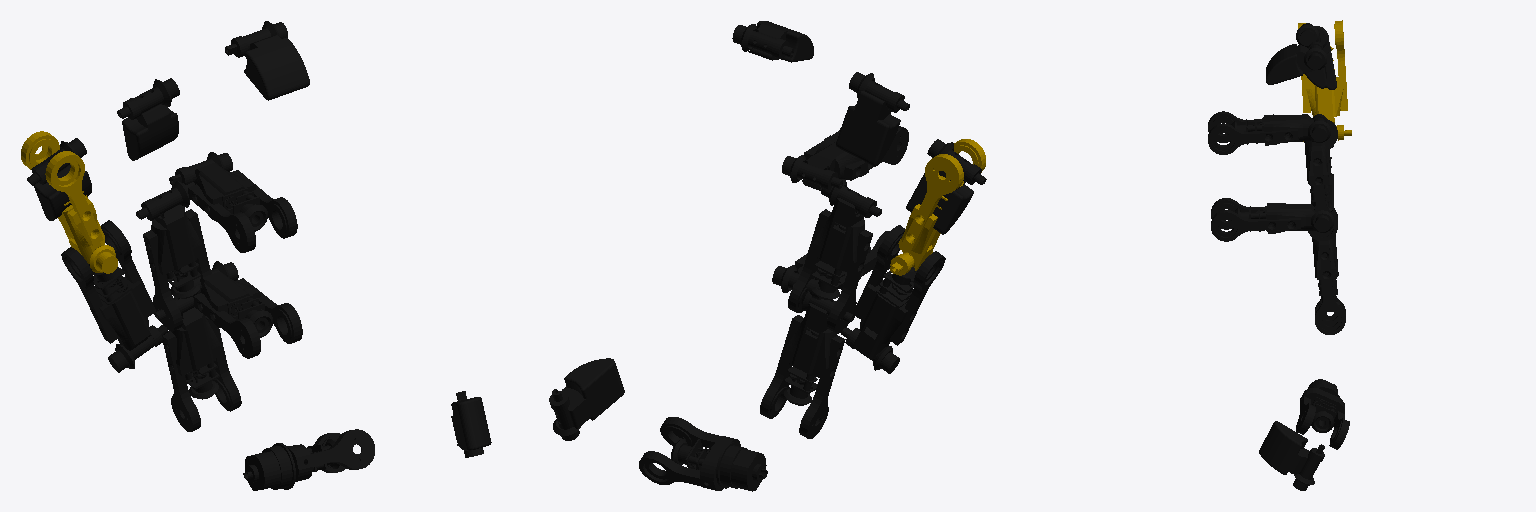
The robot description file, URDF, robot "hand_remake_renders":
<robot
  name="hand_remake_renders">
  <link
    name="base_link">
    <inertial>
      <origin
        xyz="0.0161938320188902 -0.0675517946069913 0.0566942623017759"
        rpy="0 0 0" />
      <mass
        value="0.145742252598535" />
      <inertia
        ixx="0.000108337180804247"
        ixy="-4.42503626036578E-09"
        ixz="-7.699092591204E-06"
        iyy="0.000124743842930029"
        iyz="-7.34642773832096E-08"
        izz="4.87149243546208E-05" />
    </inertial>
    <visual>
      <origin
        xyz="0 0 0"
        rpy="0 0 0" />
      <geometry>
        <mesh
          filename="package://robot_hand/meshes/base_link.STL" />
      </geometry>
      <material
        name="">
        <color
          rgba="0.792156862745098 0.819607843137255 0.933333333333333 1" />
      </material>
    </visual>
    <collision>
      <origin
        xyz="0 0 0"
        rpy="0 0 0" />
      <geometry>
        <mesh
          filename="package://robot_hand/meshes/base_link.STL" />
      </geometry>
    </collision>
  </link>
  <link
    name="thumb_meta">
    <inertial>
      <origin
        xyz="3.54579893944718E-05 0.0296060889397809 0.00118047417000397"
        rpy="0 0 0" />
      <mass
        value="0.0105969873086149" />
      <inertia
        ixx="1.71469578578689E-06"
        ixy="6.63854404146747E-09"
        ixz="-1.29745418023376E-10"
        iyy="2.75598636814296E-07"
        iyz="-1.89792482555603E-07"
        izz="1.44108511822397E-06" />
    </inertial>
    <visual>
      <origin
        xyz="0 0 0"
        rpy="0 0 0" />
      <geometry>
        <mesh
          filename="package://robot_hand/meshes/thumb_meta.STL" />
      </geometry>
      <material
        name="">
        <color
          rgba="0.109803921568627 0.109803921568627 0.109803921568627 1" />
      </material>
    </visual>
    <collision>
      <origin
        xyz="0 0 0"
        rpy="0 0 0" />
      <geometry>
        <mesh
          filename="package://robot_hand/meshes/thumb_meta.STL" />
      </geometry>
    </collision>
  </link>
  <joint
    name="thumb_meta_to_base"
    type="continuous">
    <origin
      xyz="0.019209760005139 -0.0675469356726254 0.0198747840085588"
      rpy="7.70816303271424E-16 -0.450566111790748 -1.5707963267949" />
    <parent
      link="base_link" />
    <child
      link="thumb_meta" />
    <axis
      xyz="0 1 0" />
  </joint>
  <link
    name="thumb_inter">
    <inertial>
      <origin
        xyz="0.000451398037093289 0.020613202244871 -9.10600556289498E-05"
        rpy="0 0 0" />
      <mass
        value="0.0203008345815764" />
      <inertia
        ixx="7.96942669235314E-06"
        ixy="-5.03458835216604E-07"
        ixz="2.79508174150751E-09"
        iyy="6.17359646262548E-07"
        iyz="2.42893830063001E-08"
        izz="8.58460841090492E-06" />
    </inertial>
    <visual>
      <origin
        xyz="0 0 0"
        rpy="0 0 0" />
      <geometry>
        <mesh
          filename="package://robot_hand/meshes/thumb_inter.STL" />
      </geometry>
      <material
        name="">
        <color
          rgba="0.109803921568627 0.109803921568627 0.109803921568627 1" />
      </material>
    </visual>
    <collision>
      <origin
        xyz="0 0 0"
        rpy="0 0 0" />
      <geometry>
        <mesh
          filename="package://robot_hand/meshes/thumb_inter.STL" />
      </geometry>
    </collision>
  </link>
  <joint
    name="thumb_inter_to_meta"
    type="continuous">
    <origin
      xyz="0 0.0450000000000087 0"
      rpy="0.135013093158482 1.5707963267949 0" />
    <parent
      link="thumb_meta" />
    <child
      link="thumb_inter" />
    <axis
      xyz="-1 0 0" />
  </joint>
  <link
    name="thumb_distal">
    <inertial>
      <origin
        xyz="-0.00121408448443803 0.00515112279717869 -0.000266659121916014"
        rpy="0 0 0" />
      <mass
        value="0.0127860282382531" />
      <inertia
        ixx="6.53141207380862E-07"
        ixy="-1.14653739086533E-07"
        ixz="5.94121376775632E-09"
        iyy="2.05657602789935E-07"
        iyz="3.36190737594443E-08"
        izz="8.55328642758697E-07" />
    </inertial>
    <visual>
      <origin
        xyz="0 0 0"
        rpy="0 0 0" />
      <geometry>
        <mesh
          filename="package://robot_hand/meshes/thumb_distal.STL" />
      </geometry>
      <material
        name="">
        <color
          rgba="0.109803921568627 0.109803921568627 0.109803921568627 1" />
      </material>
    </visual>
    <collision>
      <origin
        xyz="0 0 0"
        rpy="0 0 0" />
      <geometry>
        <mesh
          filename="package://robot_hand/meshes/thumb_distal.STL" />
      </geometry>
    </collision>
  </link>
  <joint
    name="thumb_distal_to_inter"
    type="continuous">
    <origin
      xyz="0.00279999999999976 0.0494997311142436 -0.000163155195877576"
      rpy="0.169380486675781 5.55111512312578E-17 5.82867087928207E-16" />
    <parent
      link="thumb_inter" />
    <child
      link="thumb_distal" />
    <axis
      xyz="-1 0 0" />
  </joint>
  <link
    name="Index_meta">
    <inertial>
      <origin
        xyz="-4.10385928154636E-05 0.0205408588012685 0.00172784033827147"
        rpy="0 0 0" />
      <mass
        value="0.020300838905472" />
      <inertia
        ixx="7.96942708675344E-06"
        ixy="-5.01742443983291E-07"
        ixz="-4.16321516147892E-08"
        iyy="6.7510139424776E-07"
        iyz="-6.76238564015784E-07"
        izz="8.52686706791645E-06" />
    </inertial>
    <visual>
      <origin
        xyz="0 0 0"
        rpy="0 0 0" />
      <geometry>
        <mesh
          filename="package://robot_hand/meshes/Index_meta.STL" />
      </geometry>
      <material
        name="">
        <color
          rgba="0.109803921568627 0.109803921568627 0.109803921568627 1" />
      </material>
    </visual>
    <collision>
      <origin
        xyz="0 0 0"
        rpy="0 0 0" />
      <geometry>
        <mesh
          filename="package://robot_hand/meshes/Index_meta.STL" />
      </geometry>
    </collision>
  </link>
  <joint
    name="Index_meta_to_base"
    type="continuous">
    <origin
      xyz="0.05515034993821 -0.0675469356726246 0.115314806633858"
      rpy="1.5707963267949 0.0482191995046216 -2.95476729400594E-18" />
    <parent
      link="base_link" />
    <child
      link="Index_meta" />
    <axis
      xyz="1 0 0" />
  </joint>
  <link
    name="Index_inter">
    <inertial>
      <origin
        xyz="0.0121013985905616 0.0206047333141407 0.000597723366559624"
        rpy="0 0 0" />
      <mass
        value="0.0203008390639351" />
      <inertia
        ixx="7.96942710425384E-06"
        ixy="-5.03271225635485E-07"
        ixz="-1.40281499936136E-08"
        iyy="6.24631949891235E-07"
        iyz="-2.41820573352517E-07"
        izz="8.57733652803394E-06" />
    </inertial>
    <visual>
      <origin
        xyz="0 0 0"
        rpy="0 0 0" />
      <geometry>
        <mesh
          filename="package://robot_hand/meshes/Index_inter.STL" />
      </geometry>
      <material
        name="">
        <color
          rgba="0.647058823529412 0.517647058823529 0 1" />
      </material>
    </visual>
    <collision>
      <origin
        xyz="0 0 0"
        rpy="0 0 0" />
      <geometry>
        <mesh
          filename="package://robot_hand/meshes/Index_inter.STL" />
      </geometry>
    </collision>
  </link>
  <joint
    name="Index_inter_to_meta"
    type="continuous">
    <origin
      xyz="-0.0102424371975805 0.0493211155528963 0.00420446912437898"
      rpy="0.0850412363358472 3.8068506680311E-15 -9.71445146547012E-16" />
    <parent
      link="Index_meta" />
    <child
      link="Index_inter" />
    <axis
      xyz="-0.0433901391610683 0.858916279225826 -0.510274554631569" />
  </joint>
  <link
    name="Index_distal">
    <inertial>
      <origin
        xyz="0.011335914605667 0.0051569682724758 -0.000104179090270301"
        rpy="0 0 0" />
      <mass
        value="0.0127860296240113" />
      <inertia
        ixx="6.53141153433073E-07"
        ixy="-1.14784086482922E-07"
        ixz="2.32472970560462E-09"
        iyy="2.04184777969366E-07"
        iyz="1.30868227360477E-08"
        izz="8.56801279804738E-07" />
    </inertial>
    <visual>
      <origin
        xyz="0 0 0"
        rpy="0 0 0" />
      <geometry>
        <mesh
          filename="package://robot_hand/meshes/Index_distal.STL" />
      </geometry>
      <material
        name="">
        <color
          rgba="0.109803921568627 0.109803921568627 0.109803921568627 1" />
      </material>
    </visual>
    <collision>
      <origin
        xyz="0 0 0"
        rpy="0 0 0" />
      <geometry>
        <mesh
          filename="package://robot_hand/meshes/Index_distal.STL" />
      </geometry>
    </collision>
  </link>
  <joint
    name="Index_distal_to_inter"
    type="continuous">
    <origin
      xyz="0.00190000000000003 0.0494775444864091 0.001490835871383"
      rpy="0.0301224515133165 1.62666352588235E-13 4.77652355984014E-15" />
    <parent
      link="Index_inter" />
    <child
      link="Index_distal" />
    <axis
      xyz="1 0 0" />
  </joint>
  <link
    name="middle_meta">
    <inertial>
      <origin
        xyz="0.0121013958630512 0.0206033453170662 0.000643940922438316"
        rpy="0 0 0" />
      <mass
        value="0.0203008295218199" />
      <inertia
        ixx="7.96942629285279E-06"
        ixy="-5.03238415263321E-07"
        ixz="-1.51570254822738E-08"
        iyy="6.25756756631991E-07"
        iyz="-2.59657099663674E-07"
        izz="8.57621074423836E-06" />
    </inertial>
    <visual>
      <origin
        xyz="0 0 0"
        rpy="0 0 0" />
      <geometry>
        <mesh
          filename="package://robot_hand/meshes/middle_meta.STL" />
      </geometry>
      <material
        name="">
        <color
          rgba="0.109803921568627 0.109803921568627 0.109803921568627 1" />
      </material>
    </visual>
    <collision>
      <origin
        xyz="0 0 0"
        rpy="0 0 0" />
      <geometry>
        <mesh
          filename="package://robot_hand/meshes/middle_meta.STL" />
      </geometry>
    </collision>
  </link>
  <joint
    name="middle_meta_to_base"
    type="continuous">
    <origin
      xyz="0.0148769717121654 -0.0675469356726257 0.111042118644561"
      rpy="1.57079632679557 -0.107403493214135 -6.30269289035029E-12" />
    <parent
      link="base_link" />
    <child
      link="middle_meta" />
    <axis
      xyz="1 0 0" />
  </joint>
  <link
    name="middle_inter">
    <inertial>
      <origin
        xyz="0.0118908509528186 0.0157420746042994 0.00010644703838085"
        rpy="0 0 0" />
      <mass
        value="0.0173715633219718" />
      <inertia
        ixx="5.11297334243985E-06"
        ixy="-3.79993972632805E-07"
        ixz="-1.98715869637498E-09"
        iyy="4.00389105816473E-07"
        iyz="-4.30146924905699E-08"
        izz="5.510611213924E-06" />
    </inertial>
    <visual>
      <origin
        xyz="0 0 0"
        rpy="0 0 0" />
      <geometry>
        <mesh
          filename="package://robot_hand/meshes/middle_inter.STL" />
      </geometry>
      <material
        name="">
        <color
          rgba="0.109803921568627 0.109803921568627 0.109803921568627 1" />
      </material>
    </visual>
    <collision>
      <origin
        xyz="0 0 0"
        rpy="0 0 0" />
      <geometry>
        <mesh
          filename="package://robot_hand/meshes/middle_inter.STL" />
      </geometry>
    </collision>
  </link>
  <joint
    name="middle_inter_to_meta"
    type="continuous">
    <origin
      xyz="0.00189999999998808 0.049474075860848 0.00160181700362946"
      rpy="0.0323655898320461 6.5518511273338E-12 9.2148511043888E-15" />
    <parent
      link="middle_meta" />
    <child
      link="middle_inter" />
    <axis
      xyz="0.09649892443135 0.880452882657808 -0.464209736006418" />
  </joint>
  <link
    name="middle_distal">
    <inertial>
      <origin
        xyz="-0.000122162122210154 0.00507395561040364 0.000927438982717771"
        rpy="0 0 0" />
      <mass
        value="0.012786027165172" />
      <inertia
        ixx="6.53141172142094E-07"
        ixy="-1.1293745176837E-07"
        ixz="-2.06371785964382E-08"
        iyy="2.25074855995339E-07"
        iyz="-1.15620016000655E-07"
        izz="8.3591152010311E-07" />
    </inertial>
    <visual>
      <origin
        xyz="0 0 0"
        rpy="0 0 0" />
      <geometry>
        <mesh
          filename="package://robot_hand/meshes/middle_distal.STL" />
      </geometry>
      <material
        name="">
        <color
          rgba="0.109803921568627 0.109803921568627 0.109803921568627 1" />
      </material>
    </visual>
    <collision>
      <origin
        xyz="0 0 0"
        rpy="0 0 0" />
      <geometry>
        <mesh
          filename="package://robot_hand/meshes/middle_distal.STL" />
      </geometry>
    </collision>
  </link>
  <joint
    name="middle_distal_to_inter"
    type="continuous">
    <origin
      xyz="0.0133580788239724 0.0494982210305766 0.00041966034683967"
      rpy="0.00847808836902598 -2.85456626454119E-13 7.58815553469298E-16" />
    <parent
      link="middle_inter" />
    <child
      link="middle_distal" />
    <axis
      xyz="1 0 0" />
  </joint>
  <link
    name="ring_meta">
    <inertial>
      <origin
        xyz="0.0121013939588269 -2.31193823498205E-05 -0.0206133932004613"
        rpy="0 0 0" />
      <mass
        value="0.020300827519575" />
      <inertia
        ixx="7.96942622276496E-06"
        ixy="1.13567092702337E-09"
        ixz="5.03465516984217E-07"
        iyy="8.58468131874584E-06"
        iyz="1.97183393718797E-09"
        izz="6.172859372683E-07" />
    </inertial>
    <visual>
      <origin
        xyz="0 0 0"
        rpy="0 0 0" />
      <geometry>
        <mesh
          filename="package://robot_hand/meshes/ring_meta.STL" />
      </geometry>
      <material
        name="">
        <color
          rgba="0.109803921568627 0.109803921568627 0.109803921568627 1" />
      </material>
    </visual>
    <collision>
      <origin
        xyz="0 0 0"
        rpy="0 0 0" />
      <geometry>
        <mesh
          filename="package://robot_hand/meshes/ring_meta.STL" />
      </geometry>
    </collision>
  </link>
  <joint
    name="ring_meta_to_inter"
    type="continuous">
    <origin
      xyz="-0.0110284094329051 -0.0675469356726257 0.102499218896607"
      rpy="-3.06298121523762 -0.257909265986246 2.14032031088432E-15" />
    <parent
      link="base_link" />
    <child
      link="ring_meta" />
    <axis
      xyz="1 0 0" />
  </joint>
  <link
    name="ring_inter">
    <inertial>
      <origin
        xyz="0.0132837272090998 -3.9404089127712E-05 -0.0351439413935212"
        rpy="0 0 0" />
      <mass
        value="0.011911029286377" />
      <inertia
        ixx="1.8842081734841E-06"
        ixy="5.80751975649222E-10"
        ixz="8.7830124980322E-09"
        iyy="2.27560256382503E-06"
        iyz="8.79166164627916E-09"
        izz="3.93409945414309E-07" />
    </inertial>
    <visual>
      <origin
        xyz="0 0 0"
        rpy="0 0 0" />
      <geometry>
        <mesh
          filename="package://robot_hand/meshes/ring_inter.STL" />
      </geometry>
      <material
        name="">
        <color
          rgba="0.109803921568627 0.109803921568627 0.109803921568627 1" />
      </material>
    </visual>
    <collision>
      <origin
        xyz="0 0 0"
        rpy="0 0 0" />
      <geometry>
        <mesh
          filename="package://robot_hand/meshes/ring_inter.STL" />
      </geometry>
    </collision>
  </link>
  <joint
    name="ring_inter_to_meta"
    type="continuous">
    <origin
      xyz="0.00189999999999703 0 -0.0494999999999996"
      rpy="-0.00105333445261117 -1.32463041348674E-13 -5.0460744578379E-15" />
    <parent
      link="ring_meta" />
    <child
      link="ring_inter" />
    <axis
      xyz="1 0 0" />
  </joint>
  <link
    name="ring_distal">
    <inertial>
      <origin
        xyz="0.0113359172495566 -0.000266659286230451 -0.00515112249143102"
        rpy="0 0 0" />
      <mass
        value="0.0127860269434878" />
      <inertia
        ixx="6.53141182280386E-07"
        ixy="5.94121753112401E-09"
        ixz="1.14653703498142E-07"
        iyy="8.55328730785794E-07"
        iyz="-3.36190678534968E-08"
        izz="2.0565771483245E-07" />
    </inertial>
    <visual>
      <origin
        xyz="0 0 0"
        rpy="0 0 0" />
      <geometry>
        <mesh
          filename="package://robot_hand/meshes/ring_distal.STL" />
      </geometry>
      <material
        name="">
        <color
          rgba="0.109803921568627 0.109803921568627 0.109803921568627 1" />
      </material>
    </visual>
    <collision>
      <origin
        xyz="0 0 0"
        rpy="0 0 0" />
      <geometry>
        <mesh
          filename="package://robot_hand/meshes/ring_distal.STL" />
      </geometry>
    </collision>
  </link>
  <joint
    name="ring_distal_to_inter"
    type="continuous">
    <origin
      xyz="0.00189999999999054 0 -0.0494999999999988"
      rpy="0.0870625717164134 2.67642151762589E-13 1.39269004924754E-14" />
    <parent
      link="ring_inter" />
    <child
      link="ring_distal" />
    <axis
      xyz="1 0 0" />
  </joint>
  <link
    name="little_meta">
    <inertial>
      <origin
        xyz="-0.0121013934825813 -2.31196156114388E-05 0.0206133916158283"
        rpy="0 0 0" />
      <mass
        value="0.0203008297615259" />
      <inertia
        ixx="7.96942656839436E-06"
        ixy="-1.13567709379344E-09"
        ixz="5.0346575286303E-07"
        iyy="8.58468161842693E-06"
        iyz="-1.97186106827851E-09"
        izz="6.17285895068536E-07" />
    </inertial>
    <visual>
      <origin
        xyz="0 0 0"
        rpy="0 0 0" />
      <geometry>
        <mesh
          filename="package://robot_hand/meshes/little_meta.STL" />
      </geometry>
      <material
        name="">
        <color
          rgba="0.109803921568627 0.109803921568627 0.109803921568627 1" />
      </material>
    </visual>
    <collision>
      <origin
        xyz="0 0 0"
        rpy="0 0 0" />
      <geometry>
        <mesh
          filename="package://robot_hand/meshes/little_meta.STL" />
      </geometry>
    </collision>
  </link>
  <joint
    name="little_meta_to_base"
    type="continuous">
    <origin
      xyz="-0.0352498464430395 -0.0675469356726257 0.0868736617741635"
      rpy="6.69719326685307E-17 0.417098184878571 -3.14159265358979" />
    <parent
      link="base_link" />
    <child
      link="little_meta" />
    <axis
      xyz="-1 0 0" />
  </joint>
  <link
    name="little_inter">
    <inertial>
      <origin
        xyz="-2.31194315885447E-05 0.0121013934342035 0.0206133913335622"
        rpy="0 0 0" />
      <mass
        value="0.0203008301768936" />
      <inertia
        ixx="8.58468166599254E-06"
        ixy="1.13567236905143E-09"
        ixz="-1.97184252984324E-09"
        iyy="7.96942661749542E-06"
        iyz="-5.03465754627411E-07"
        izz="6.17285890468515E-07" />
    </inertial>
    <visual>
      <origin
        xyz="0 0 0"
        rpy="0 0 0" />
      <geometry>
        <mesh
          filename="package://robot_hand/meshes/little_inter.STL" />
      </geometry>
      <material
        name="">
        <color
          rgba="0.647058823529412 0.517647058823529 0 1" />
      </material>
    </visual>
    <collision>
      <origin
        xyz="0 0 0"
        rpy="0 0 0" />
      <geometry>
        <mesh
          filename="package://robot_hand/meshes/little_inter.STL" />
      </geometry>
    </collision>
  </link>
  <joint
    name="little_inter_to_meta"
    type="continuous">
    <origin
      xyz="-0.00189999999999864 0 0.0495000000000005"
      rpy="1.26959379266411E-13 0.0598635876171449 1.57079632679514" />
    <parent
      link="little_meta" />
    <child
      link="little_inter" />
    <axis
      xyz="0 1 0" />
  </joint>
  <link
    name="little_distal">
    <inertial>
      <origin
        xyz="0.0113359167321956 -0.000266659171256851 -0.00515112271997442"
        rpy="0 0 0" />
      <mass
        value="0.0127860287639474" />
      <inertia
        ixx="6.53141114318785E-07"
        ixy="5.94121965267924E-09"
        ixz="1.14653813393836E-07"
        iyy="8.55328611363276E-07"
        iyz="-3.36190608511991E-08"
        izz="2.056576622836E-07" />
    </inertial>
    <visual>
      <origin
        xyz="0 0 0"
        rpy="0 0 0" />
      <geometry>
        <mesh
          filename="package://robot_hand/meshes/little_distal.STL" />
      </geometry>
      <material
        name="">
        <color
          rgba="0.109803921568627 0.109803921568627 0.109803921568627 1" />
      </material>
    </visual>
    <collision>
      <origin
        xyz="0 0 0"
        rpy="0 0 0" />
      <geometry>
        <mesh
          filename="package://robot_hand/meshes/little_distal.STL" />
      </geometry>
    </collision>
  </link>
  <joint
    name="little_distal_to_inter"
    type="continuous">
    <origin
      xyz="0 0.00190000000000699 0.049500000000001"
      rpy="-3.02609563008208 1.20710788280411E-13 1.57079632679465" />
    <parent
      link="little_inter" />
    <child
      link="little_distal" />
    <axis
      xyz="1 0 0" />
  </joint>
</robot>

--- What the picture shows (computed from the rendered views, not written in the file) ---
The picture shows the robot from 3 angles, left to right: view 1: azimuth 30°, elevation 25°; view 2: azimuth 150°, elevation 25°; view 3: azimuth 270°, elevation 25°; orthographic projection.
Robot: hand_remake_renders — 16 links, 15 joints (15 continuous); root link base_link; default pose: every joint at zero.
Links seen in each view (by area): view 1: little_meta, ring_inter, middle_inter, ring_meta, middle_meta, thumb_meta, little_inter, middle_distal, ring_distal, thumb_distal, little_distal; view 2: ring_inter, ring_meta, little_meta, thumb_meta, little_inter, ring_distal, thumb_distal, middle_inter, middle_distal, little_distal, middle_meta; view 3: middle_inter, middle_meta, thumb_distal, thumb_meta, ring_meta, little_inter, ring_inter, middle_distal, ring_distal.
Link boxes in pixels (x1,y1,x2,y2): little_meta: (61,220,168,372); ring_inter: (136,181,211,331); middle_inter: (169,152,297,252); ring_meta: (154,289,241,431); middle_meta: (192,261,302,358); thumb_meta: (243,429,374,490); little_inter: (21,131,117,273); middle_distal: (225,21,309,100); ring_distal: (117,78,179,160); thumb_distal: (451,391,491,457); little_distal: (27,138,91,220); ring_inter: (788,179,881,333); ring_meta: (760,291,854,438); little_meta: (841,225,945,373); thumb_meta: (639,417,767,491); little_inter: (890,139,985,275); ring_distal: (836,72,909,166); thumb_distal: (549,358,624,440); middle_inter: (782,126,908,190); middle_distal: (732,21,813,62); little_distal: (906,139,986,234); middle_meta: (772,231,897,299); middle_inter: (1208,111,1330,154); middle_meta: (1211,198,1334,241); thumb_distal: (1259,421,1324,490); thumb_meta: (1296,379,1349,449); ring_meta: (1312,232,1345,334); little_inter: (1298,20,1351,141); ring_inter: (1304,140,1337,240); middle_distal: (1266,42,1326,84); ring_distal: (1296,23,1326,88).
Size in the robot's own frame: 0.2057 by 0.0741 by 0.2101 metres.
11 mesh visuals loaded from 16 distinct referenced files (11 binary STL); not drawn: 5 (reference not matched to a file when rendering).